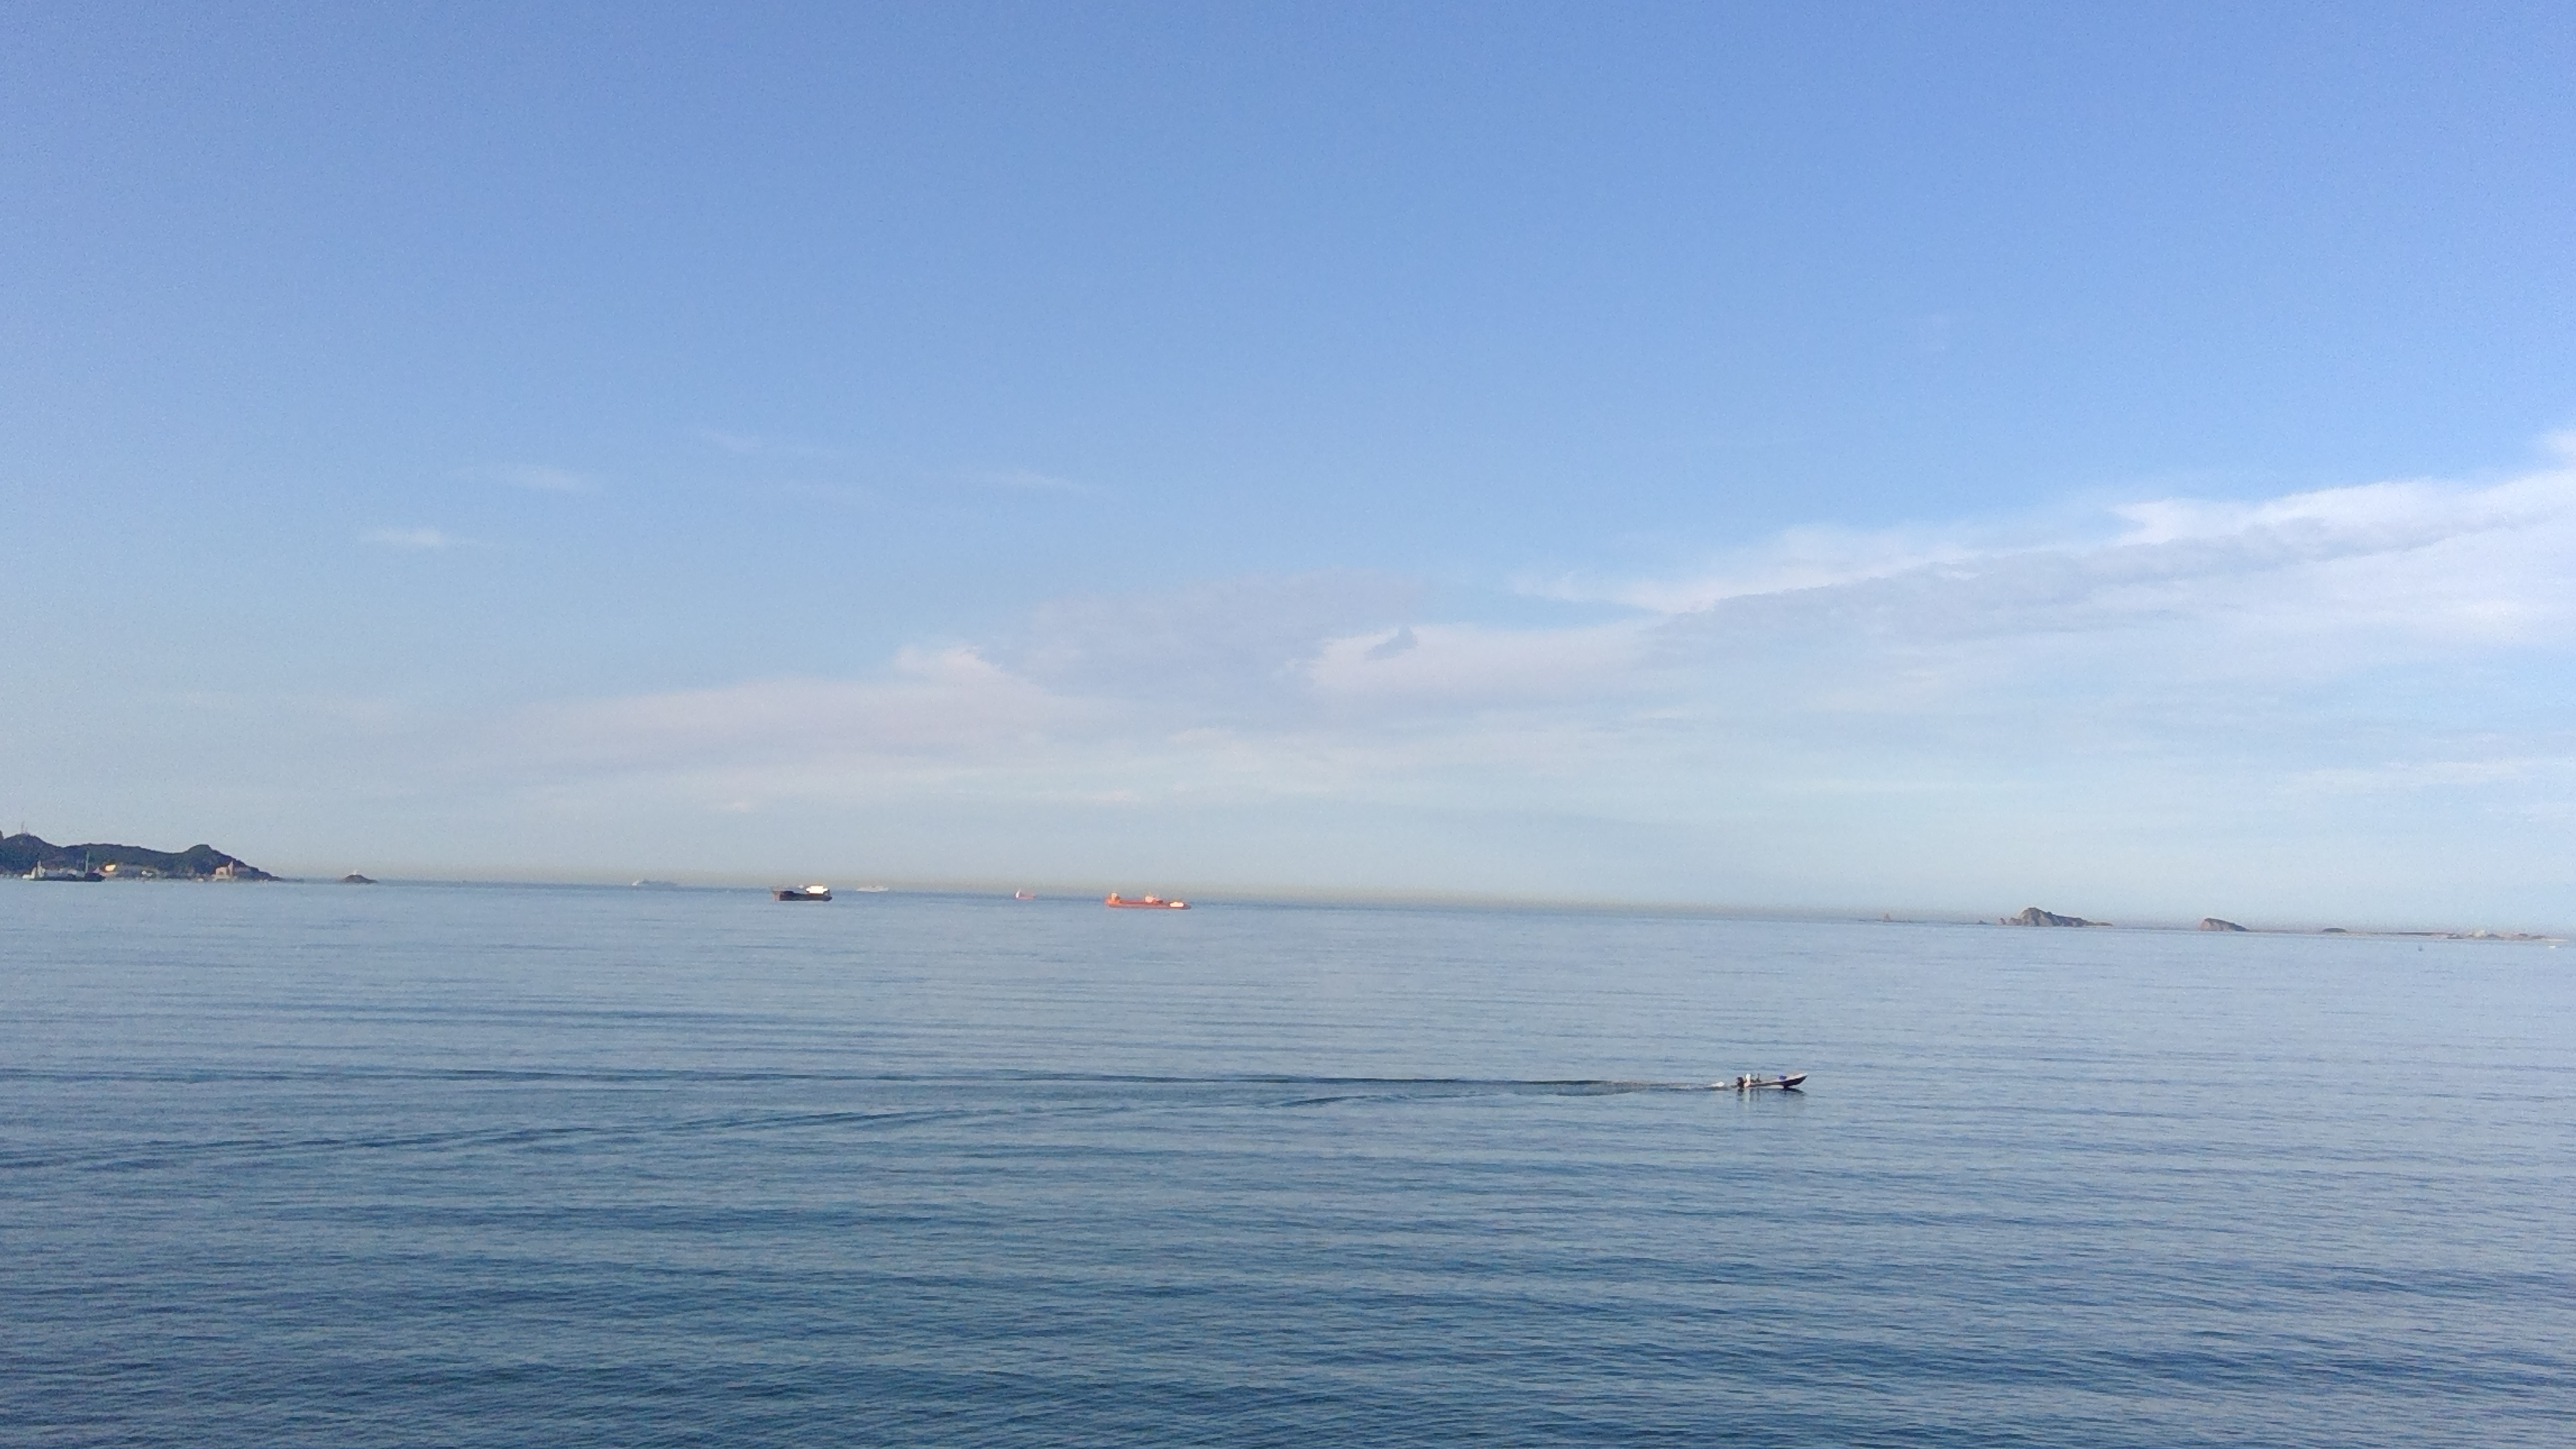boat: (1714, 1067, 1815, 1109)
